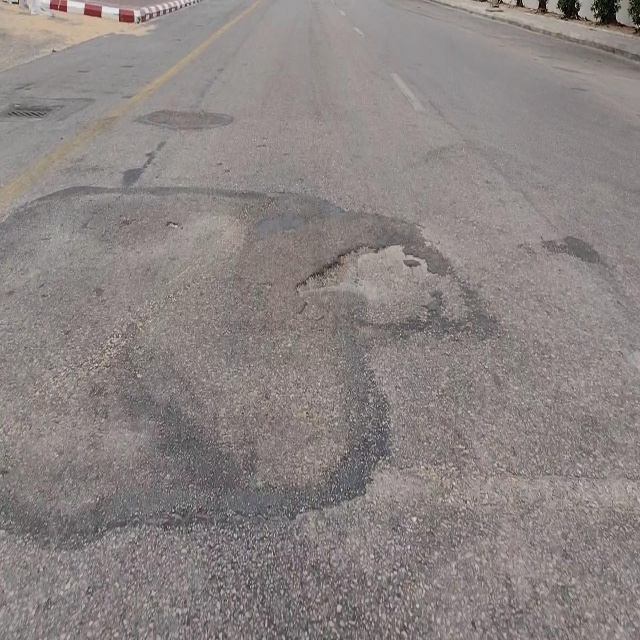pothole: (293, 239, 469, 329)
